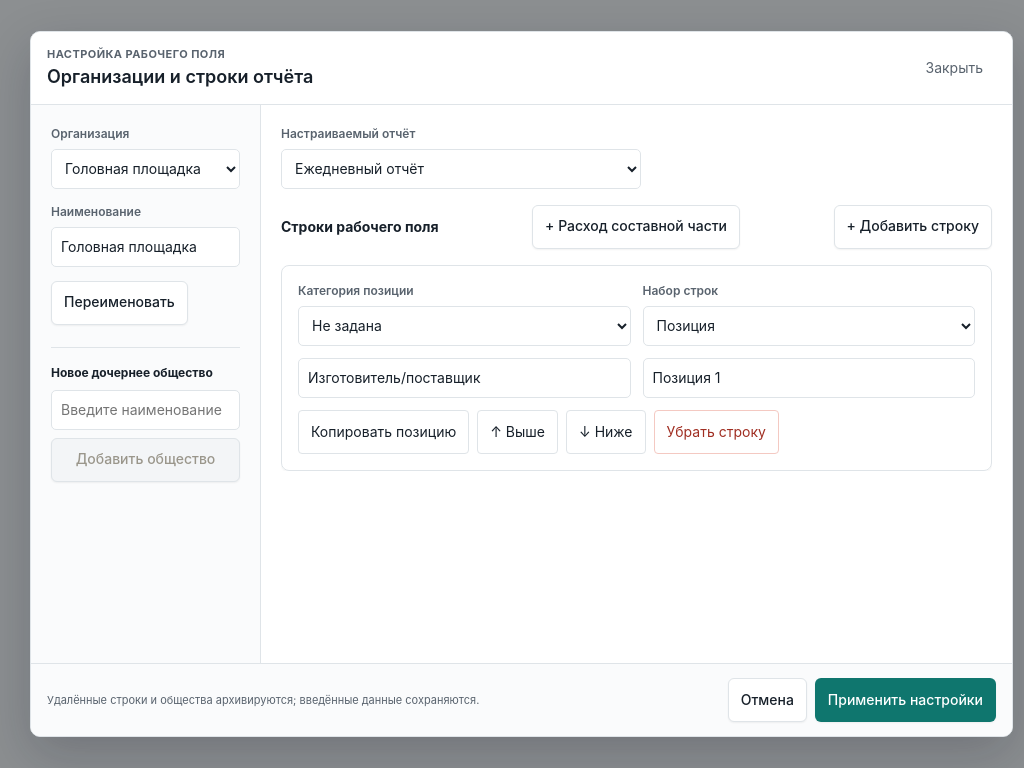
adds a daily component consumption group with the source worksheet row order
The width and height of the screenshot is (1024, 768).
What coordinates should you click on to do the following:
click the button "+ Расход составной части"
I would click on:
 (636, 227)
Its box is [532, 205, 740, 249].
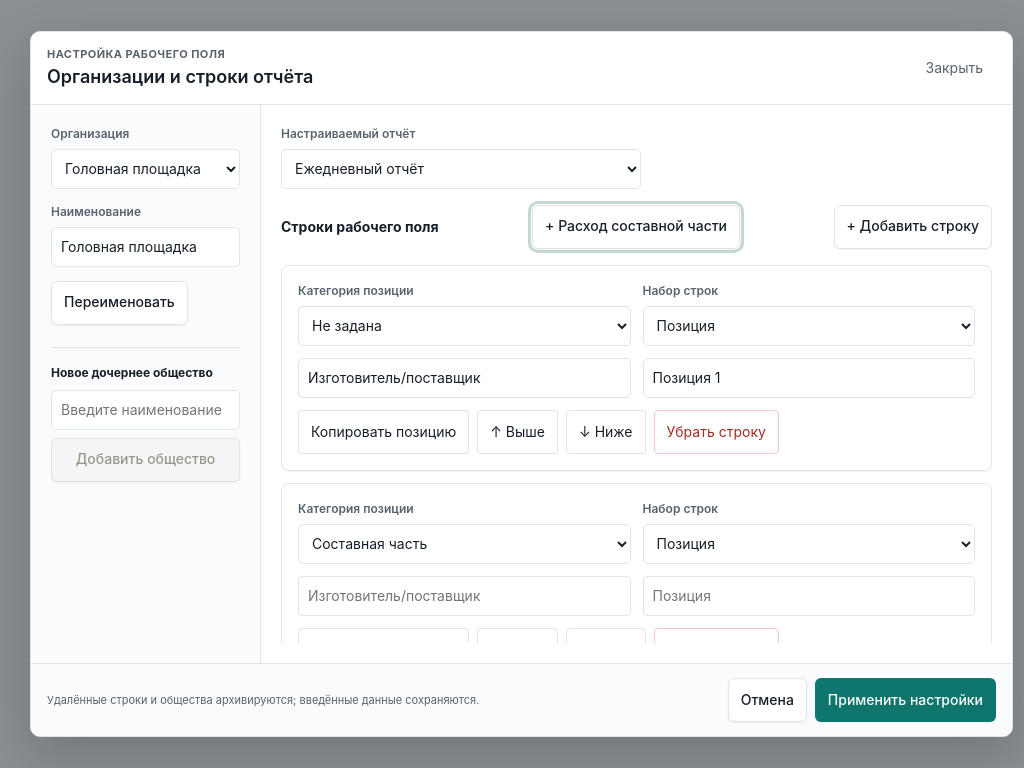
expect the number of dropdowns labelled "Категория позиции" is 2: met, box [298, 306, 630, 346]; [298, 524, 630, 564]
expect the 2nd dropdown labelled "Категория позиции" shows "Составная часть": met, box [298, 524, 630, 564]
